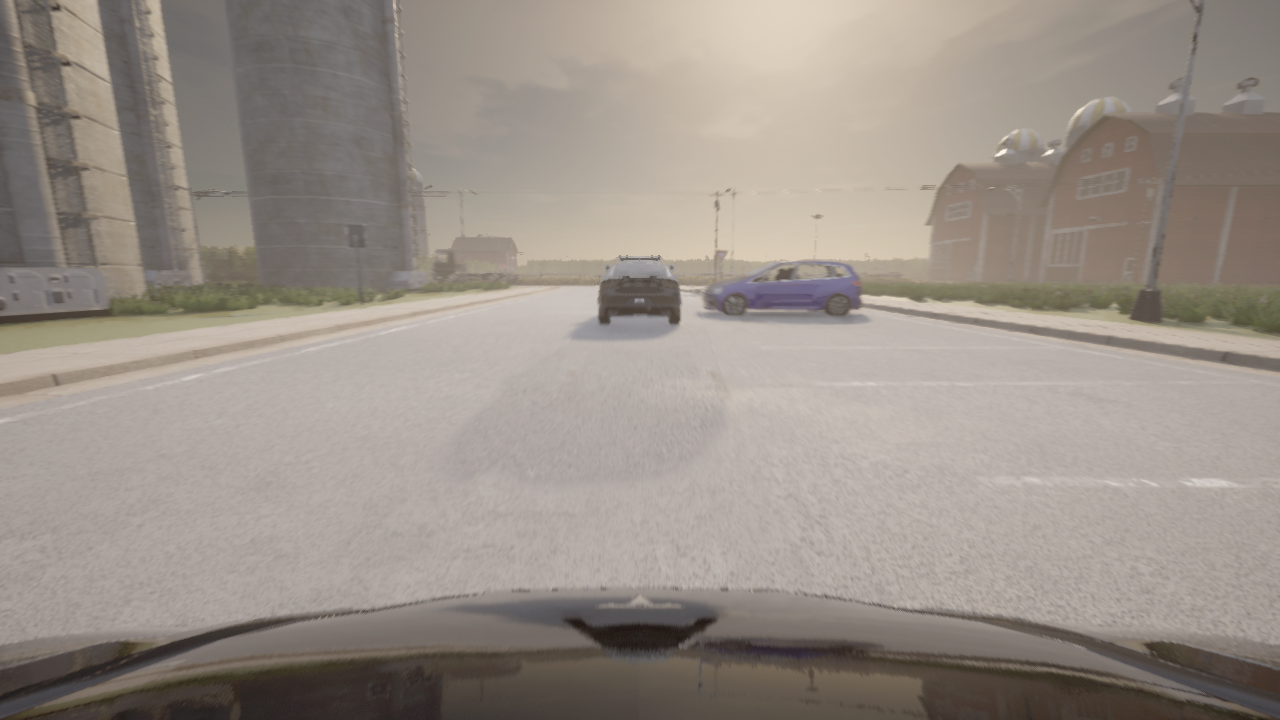cyclist: (0, 588, 1279, 719), (702, 260, 861, 315), (599, 257, 680, 324), (433, 250, 523, 285)
